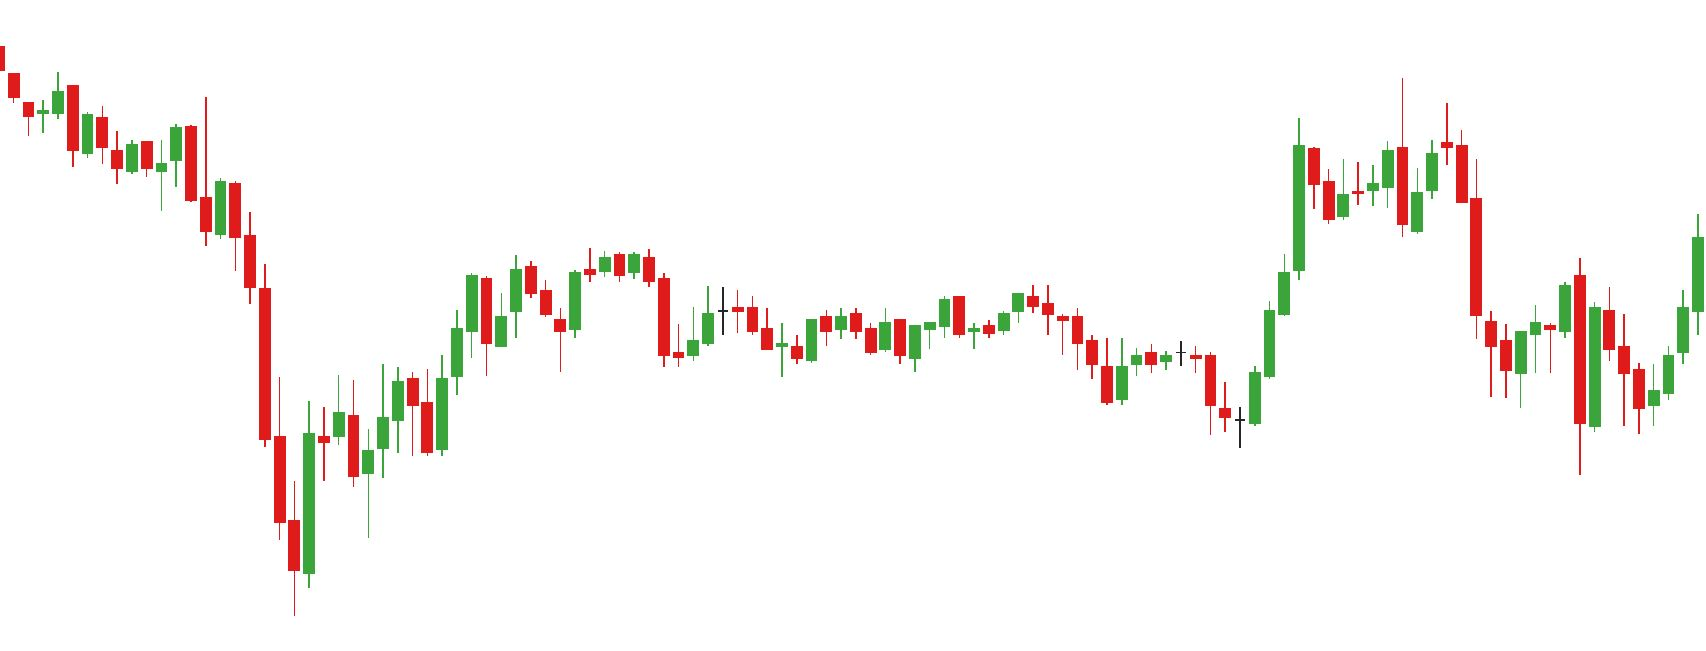buy: (1486, 320, 1602, 477), (1100, 349, 1262, 447)
sell: (1294, 76, 1408, 214)
